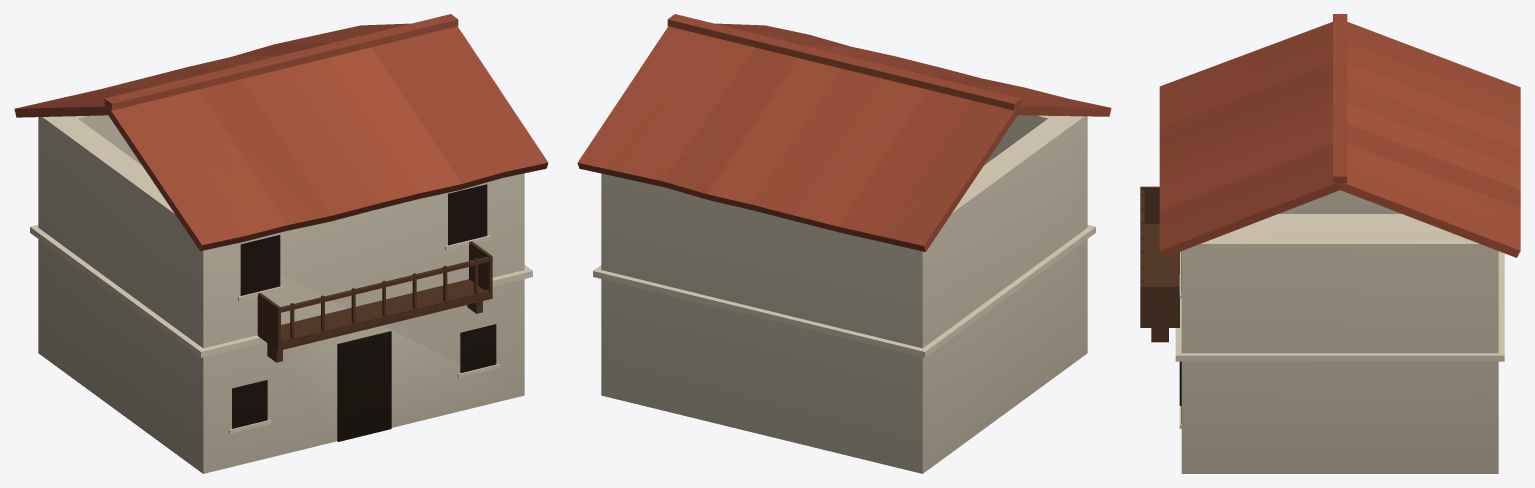
Rendered from colonial_casona_lod0.glb.
The picture shows the model from 3 angles, left to right: view 1: azimuth 30°, elevation 25°; view 2: azimuth 150°, elevation 25°; view 3: azimuth 270°, elevation 25°; orthographic projection. The views are drawn at different scales.
Parts seen in each view (by area): view 1: GEO-Arch_colonial_casona_LOD0; view 2: GEO-Arch_colonial_casona_LOD0; view 3: GEO-Arch_colonial_casona_LOD0.
Boxes of the visible parts, <box> form: GEO-Arch_colonial_casona_LOD0: <box>14,14,548,473</box>; GEO-Arch_colonial_casona_LOD0: <box>577,14,1111,473</box>; GEO-Arch_colonial_casona_LOD0: <box>1140,14,1520,473</box>.
Bounding box in the file's own units: 9.7 × 8.44 × 9.59.
